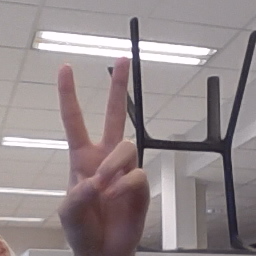V: (52, 54, 153, 243)
